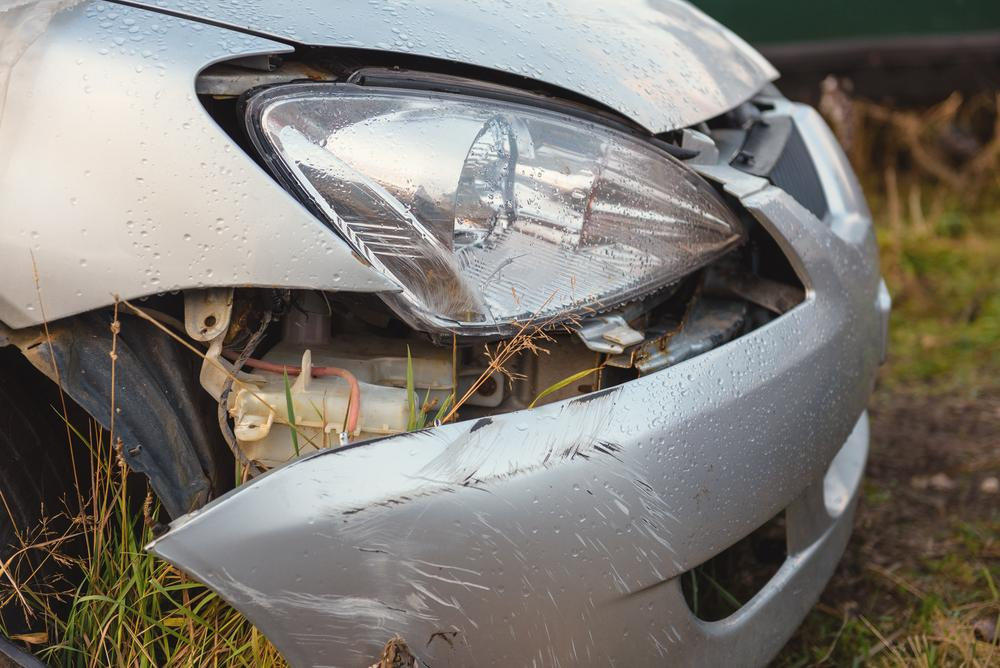scratch: (230, 383, 679, 668)
